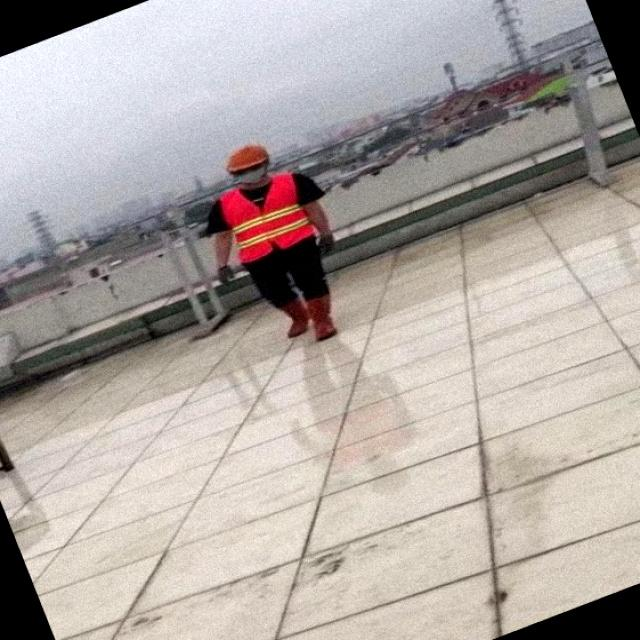helmet: (196, 146, 276, 172)
safety_vest: (213, 181, 321, 274)
